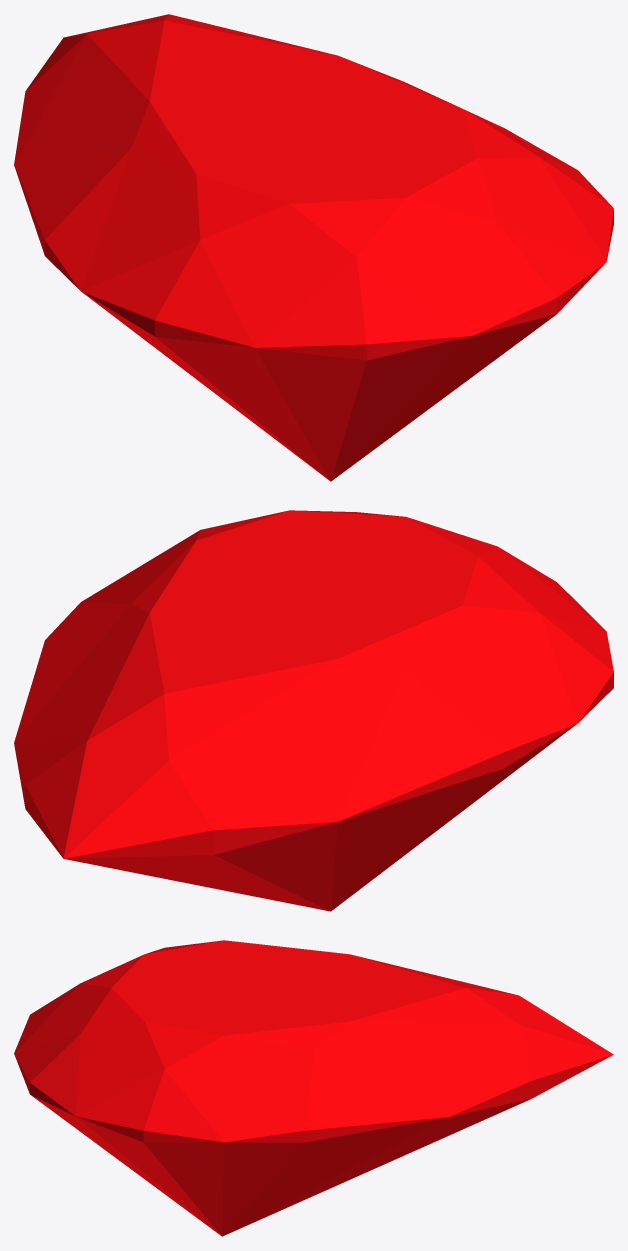
File: ruby2.glb
3 views of the same model, one above another, from view 1: azimuth 30°, elevation 25°; view 2: azimuth 150°, elevation 25°; view 3: azimuth 270°, elevation 25° (orthographic). The views are drawn at different scales.
Parts seen in each view (by area): view 1: Ruby; view 2: Ruby; view 3: Ruby.
Part boxes in pixels (left/top/right/bottom): Ruby: left=14, top=14, right=613, bottom=481; Ruby: left=14, top=510, right=613, bottom=911; Ruby: left=14, top=940, right=613, bottom=1236.
Size of what is drawn, in the model's own units: 0.8911 by 0.5816 by 1.27.
